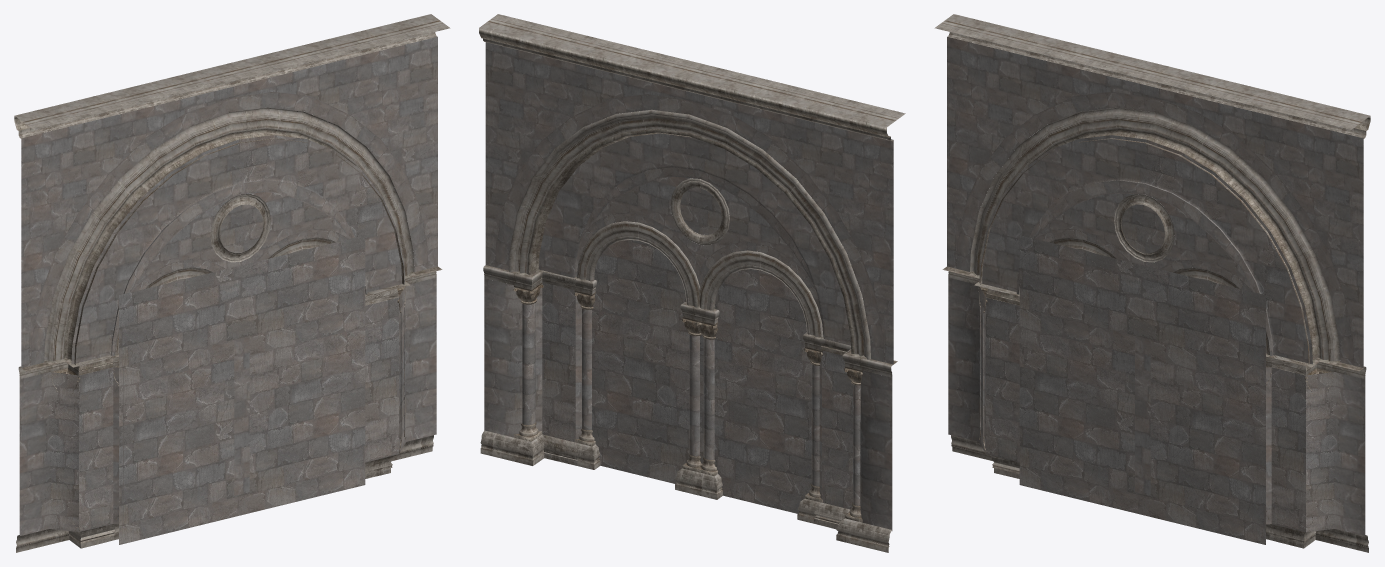
3 views of the same model, side by side, from view 1: azimuth 30°, elevation 25°; view 2: azimuth 150°, elevation 25°; view 3: azimuth 330°, elevation 25° (orthographic). The views are drawn at different scales.
Parts seen in each view (by area): view 1: SM_DungeonWall_v1_LOD0; view 2: SM_DungeonWall_v1_LOD0; view 3: SM_DungeonWall_v1_LOD0.
Part boxes in pixels (x1,y1,x2,y2): SM_DungeonWall_v1_LOD0: (14,14,450,552); SM_DungeonWall_v1_LOD0: (479,14,905,552); SM_DungeonWall_v1_LOD0: (934,14,1370,552).
Bounding box in the file's own units: 6 × 6 × 0.4837.
Materials: 3 (3 with a texture image).
